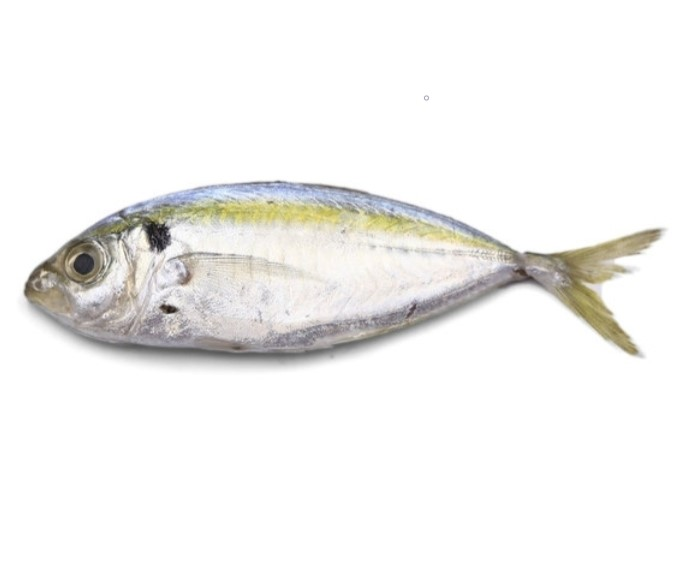Ikan Selar: (25, 178, 650, 361)
